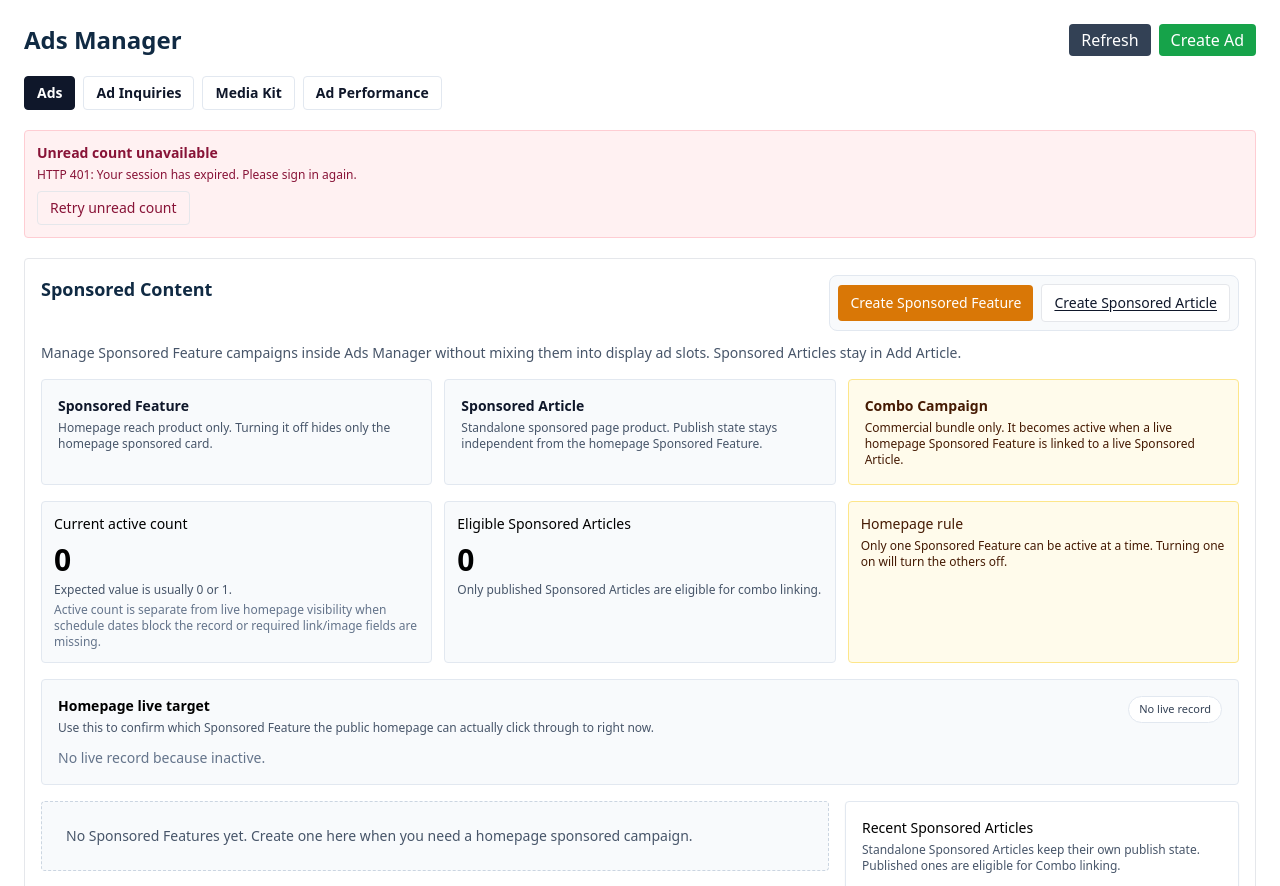
Test case: Ads unread-count polling › preserves HTTP 401 and unknown count, pauses polling, and resumes only on deliberate retry
Click the button "Ad Inquiries" at (139, 93), box [84,76,194,110]
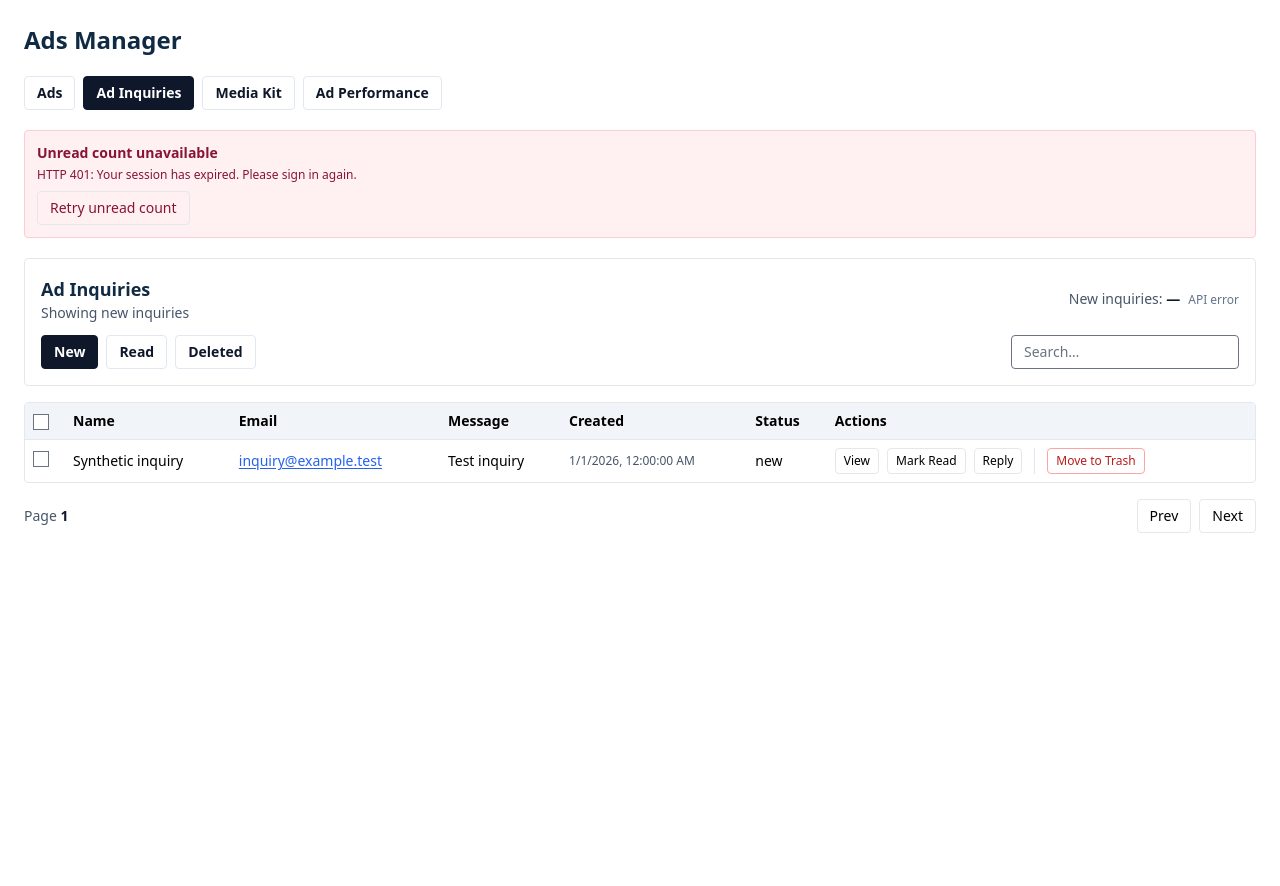
Click the checkbox named "Select all visible inquiries" at (41, 422), box [33,414,49,430]
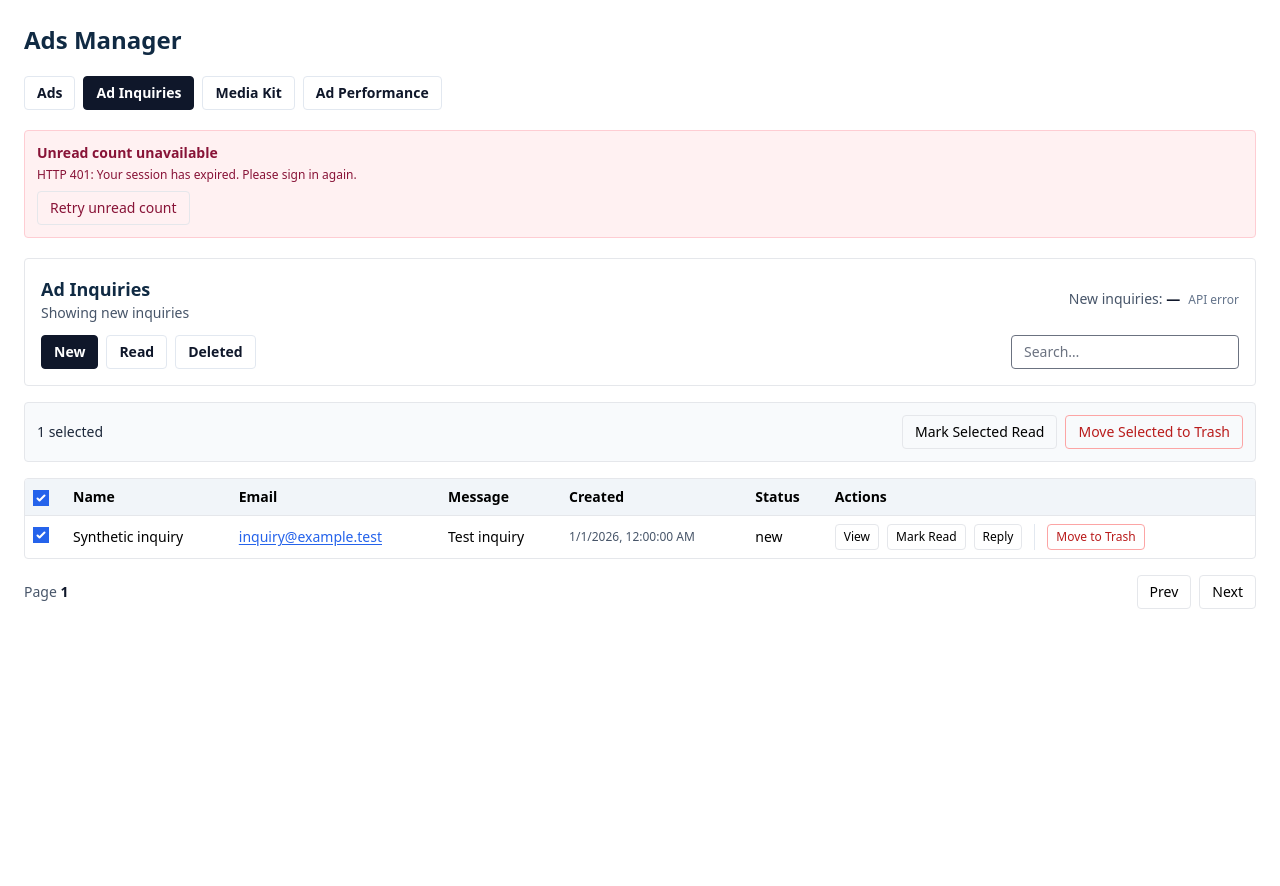
Click the button "Mark Selected Read" at (980, 432), box [902,415,1058,449]
Wait 180000 ms
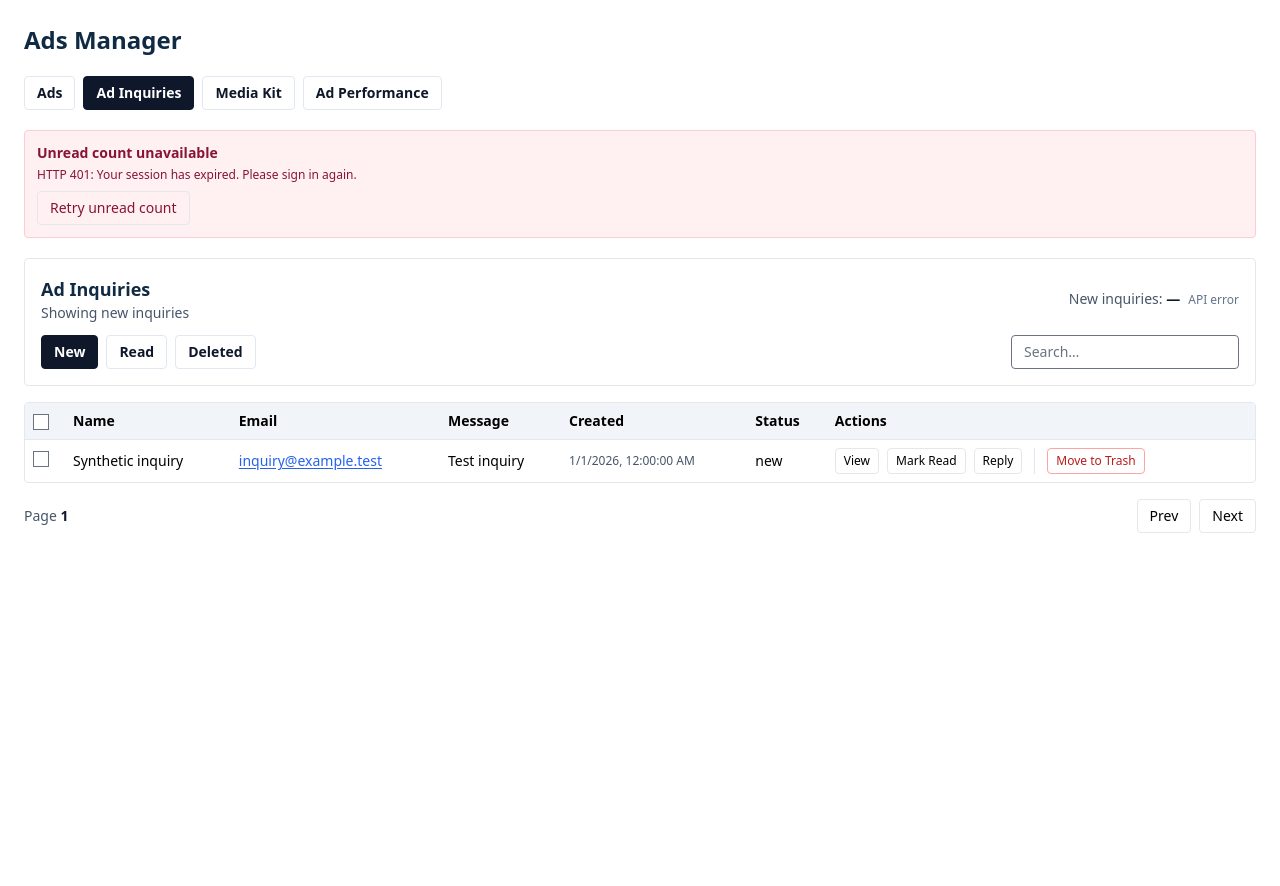
Click the button "Retry unread count" at (113, 208), box [37,191,190,225]
Wait 30000 ms
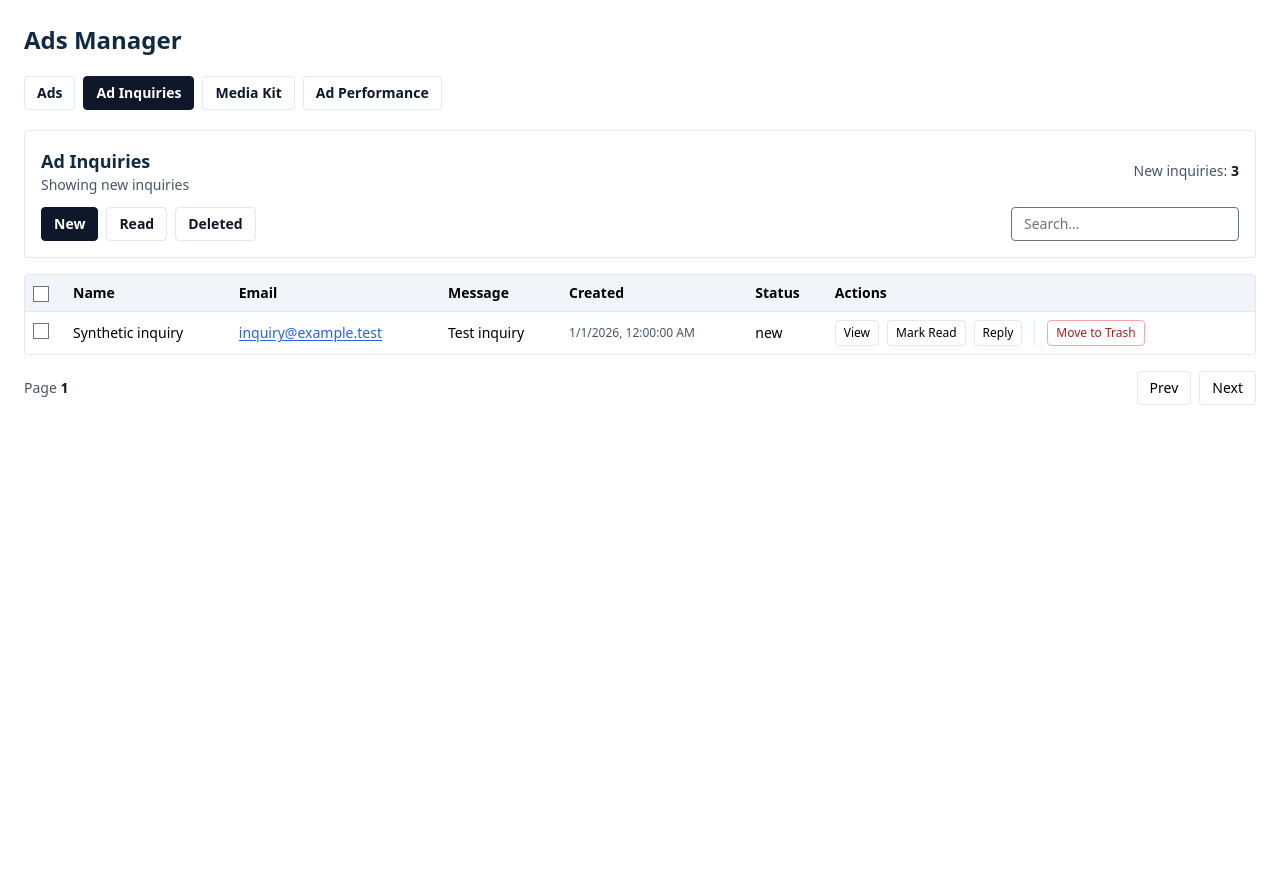
Check: the message is gone
Check: the text "New inquiries: 3" is shown, box [1134,161,1239,181]
